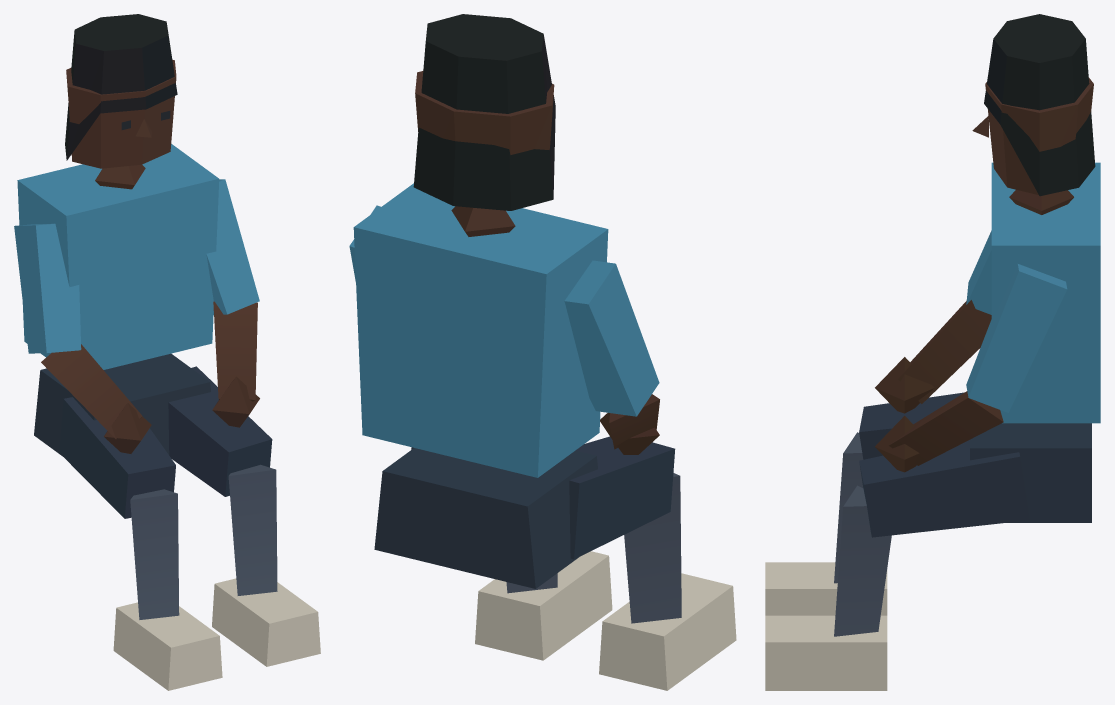
File: fan-10.glb
3 renders of one model, left to right at view 1: azimuth 30°, elevation 25°; view 2: azimuth 150°, elevation 25°; view 3: azimuth 270°, elevation 25°, orthographic. The views are drawn at different scales.
Visible parts, largest first — view 1: fan-10; view 2: fan-10; view 3: fan-10.
Boxes of the visible parts, bbox=[...] form: fan-10: bbox=[14, 14, 320, 690]; fan-10: bbox=[349, 14, 736, 690]; fan-10: bbox=[765, 14, 1100, 690].
Bounding box in the file's own units: 0.6384 × 1.55 × 0.77.
